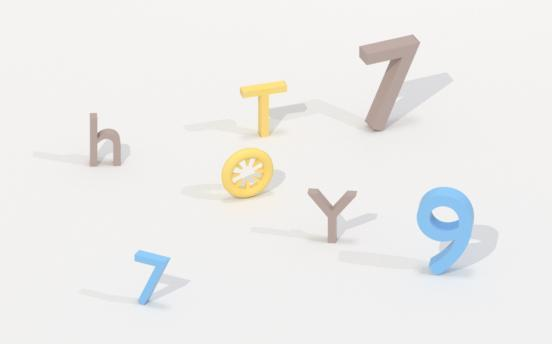chu_khoi: (240, 81, 287, 137), (308, 188, 356, 242), (89, 113, 120, 165)
dia_sao: (221, 148, 272, 197)
so_khoi: (359, 35, 419, 130), (417, 187, 473, 274), (134, 250, 169, 304)
